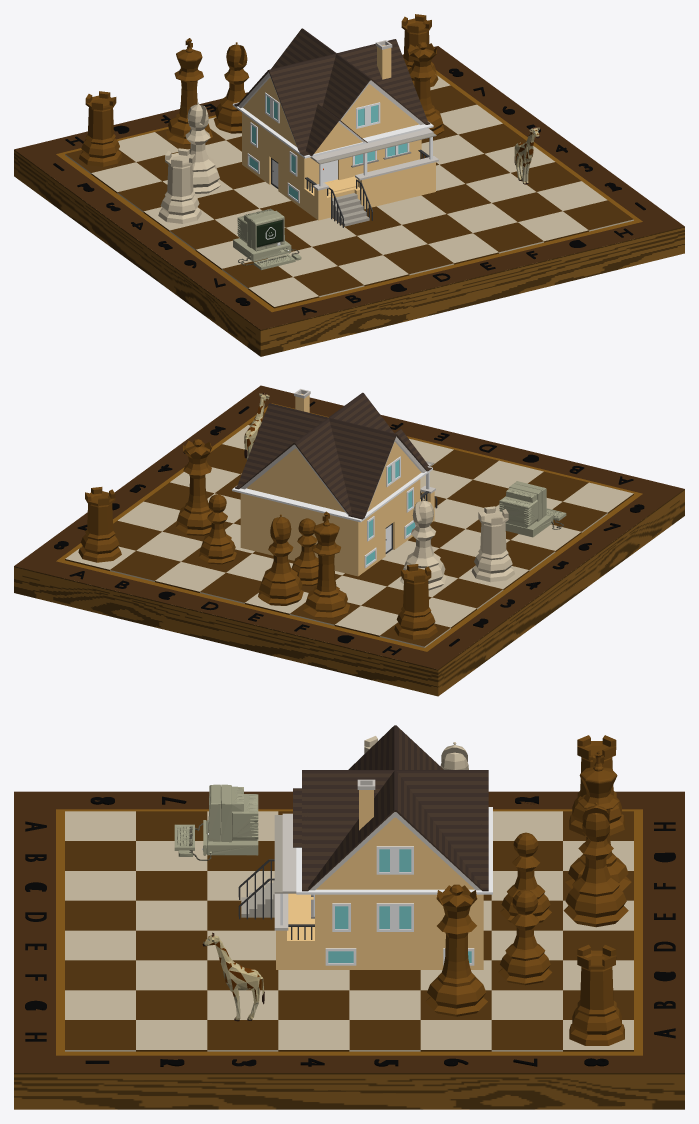
3 renders of one model, top to bottom at view 1: azimuth 30°, elevation 25°; view 2: azimuth 150°, elevation 25°; view 3: azimuth 270°, elevation 25°, orthographic. The views are drawn at different scales.
Parts seen in each view (by area): view 1: Cube.002, Cube.235, OBJRANDOM_RETRO_PC, ANIMAL_JIRAFA; view 2: Cube.002, Cube.235, OBJRANDOM_RETRO_PC, ANIMAL_JIRAFA; view 3: Cube.002, Cube.235, OBJRANDOM_RETRO_PC, ANIMAL_JIRAFA.
Part boxes in pixels (x1=…): Cube.002: x1=14, y1=14, x2=684, y2=356; Cube.235: x1=232, y1=28, x2=438, y2=227; OBJRANDOM_RETRO_PC: x1=233, y1=208, x2=301, y2=270; ANIMAL_JIRAFA: x1=514, y1=126, x2=539, y2=184; Cube.002: x1=14, y1=385, x2=684, y2=696; Cube.235: x1=232, y1=389, x2=437, y2=576; OBJRANDOM_RETRO_PC: x1=499, y1=481, x2=566, y2=537; ANIMAL_JIRAFA: x1=244, y1=393, x2=269, y2=459; Cube.002: x1=14, y1=735, x2=684, y2=1109; Cube.235: x1=238, y1=725, x2=492, y2=969; OBJRANDOM_RETRO_PC: x1=174, y1=784, x2=258, y2=860; ANIMAL_JIRAFA: x1=202, y1=932, x2=264, y2=1021.
Bounding box in the file's own units: 3981 × 1434 × 4012.
30 materials, 3 textured.
